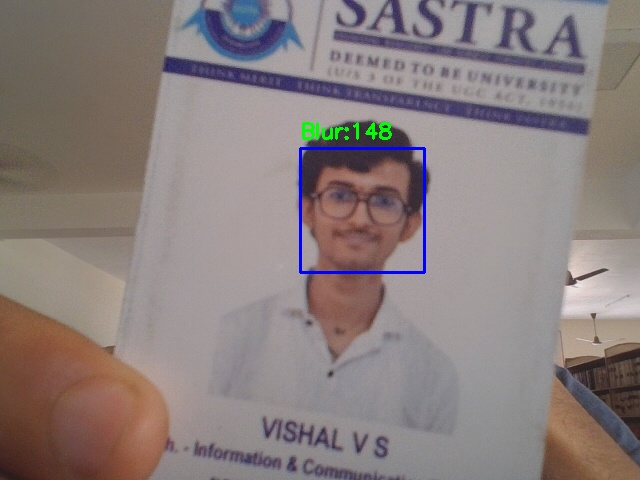fake: (300, 148, 424, 272)
